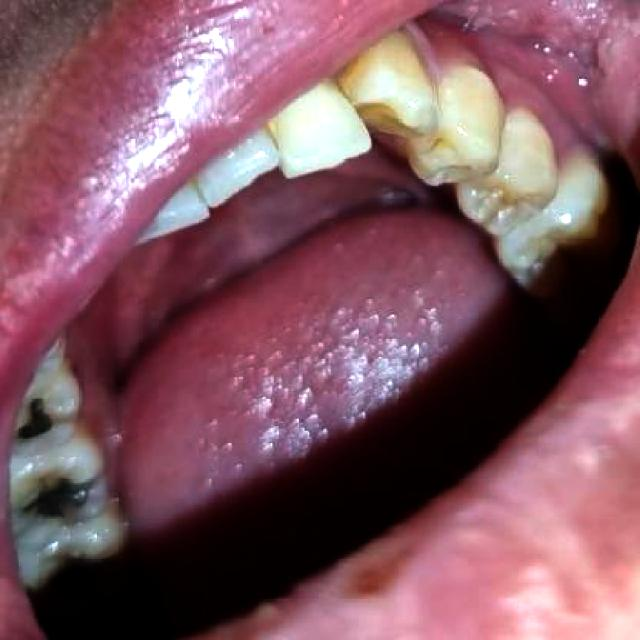Plaque: (464, 176, 536, 225), (418, 134, 452, 160), (37, 463, 57, 498)
